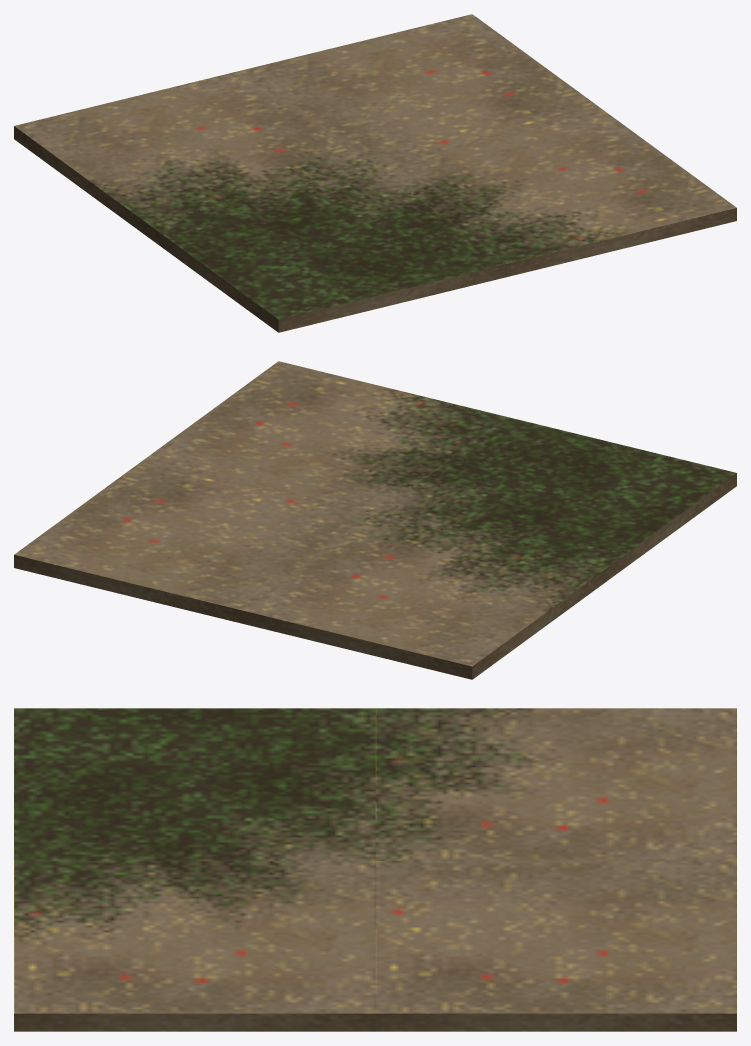
Rendered from midway_corner_out.fbx.
The picture shows the model from 3 angles, top to bottom: view 1: azimuth 30°, elevation 25°; view 2: azimuth 150°, elevation 25°; view 3: azimuth 270°, elevation 25°; orthographic projection. The views are drawn at different scales.
Visible parts, largest first — view 1: midway_corner_out; view 2: midway_corner_out; view 3: midway_corner_out.
Part boxes in pixels (x1=…): midway_corner_out: x1=14, y1=14, x2=736, y2=332; midway_corner_out: x1=14, y1=361, x2=736, y2=679; midway_corner_out: x1=14, y1=708, x2=736, y2=1031.
Size of the model in its own units: 4 by 0.11 by 4.
1 material, 1 textured.
